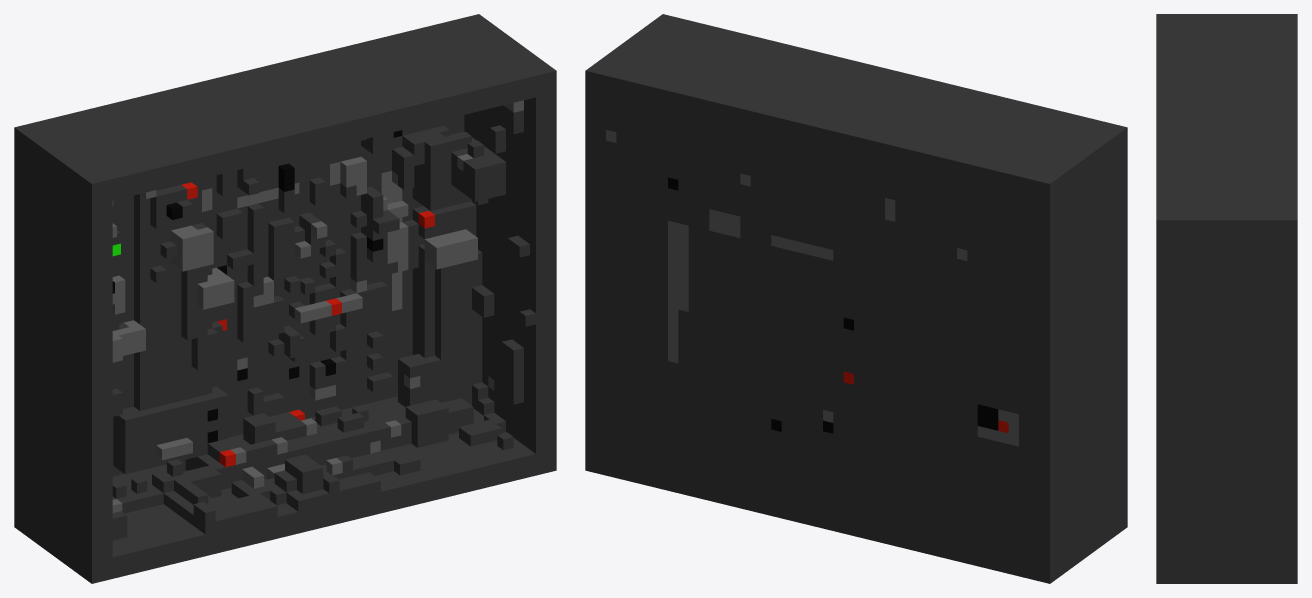
The model's file is Lvl2 StopPRE.obj.
The picture shows the model from 3 angles, left to right: view 1: azimuth 30°, elevation 25°; view 2: azimuth 150°, elevation 25°; view 3: azimuth 270°, elevation 25°; orthographic projection. The views are drawn at different scales.
Visible parts, largest first — view 1: Lvl2 StopPRE; view 2: Lvl2 StopPRE; view 3: Lvl2 StopPRE.
Part boxes in pixels (x1,y1,x2,y2): Lvl2 StopPRE: (14,14,556,583); Lvl2 StopPRE: (585,14,1127,583); Lvl2 StopPRE: (1156,14,1297,583).
Size of the model in its own units: 45 by 37 by 13.
1 material, 1 textured.
